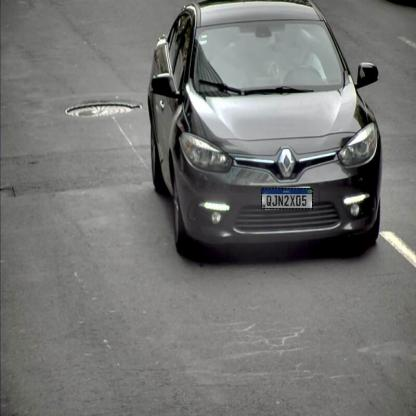PlacaM: (261, 188, 313, 209)
